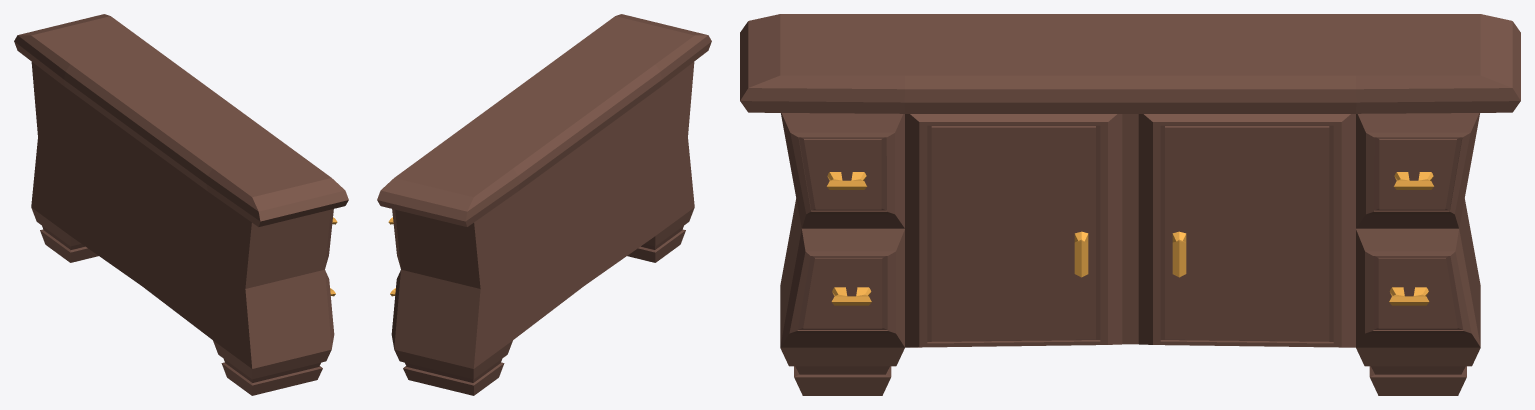
Rendered from chair.glb.
3 renders of one model, left to right at view 1: azimuth 30°, elevation 25°; view 2: azimuth 150°, elevation 25°; view 3: azimuth 270°, elevation 25°, orthographic. The views are drawn at different scales.
Visible parts, largest first — view 1: Cube; view 2: Cube; view 3: Cube.
Part boxes in pixels (bbox=[...]): Cube: bbox=[14, 14, 348, 395]; Cube: bbox=[377, 14, 711, 395]; Cube: bbox=[740, 14, 1520, 395].
Bounding box in the file's own units: 2.55 × 4.72 × 10.24.
Materials: 1 (1 with a texture image).
